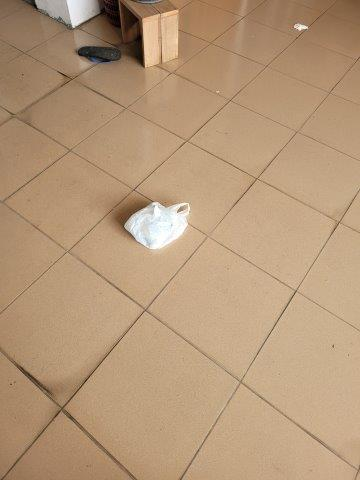plastik: (121, 202, 191, 249)
